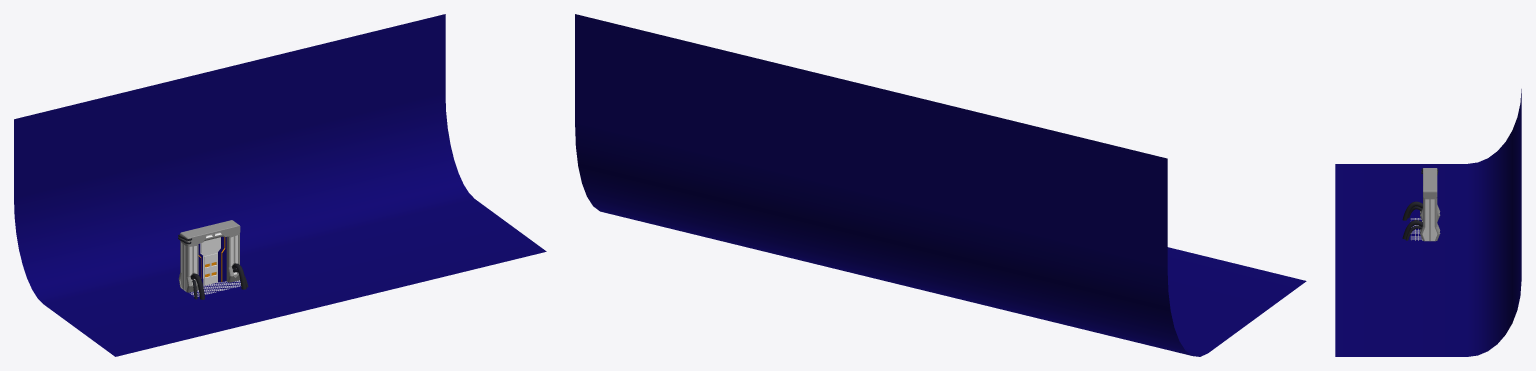
The model's file is ASSETS PUERTA Y ESCENARIO 1.fbx.
The picture shows the model from 3 angles, left to right: view 1: azimuth 30°, elevation 25°; view 2: azimuth 150°, elevation 25°; view 3: azimuth 270°, elevation 25°; orthographic projection. The views are drawn at different scales.
Visible parts, largest first — view 1: Plane.004, Cube, Plane, Plane.002; view 2: Plane.004; view 3: Plane.004, Cube.
Boxes of the visible parts, x1=… form: Plane.004: x1=14, y1=14, x2=546, y2=356; Cube: x1=178, y1=220, x2=240, y2=292; Plane: x1=198, y1=236, x2=226, y2=285; Plane.002: x1=203, y1=252, x2=217, y2=285; Plane.004: x1=575, y1=14, x2=1306, y2=356; Plane.004: x1=1335, y1=89, x2=1521, y2=356; Cube: x1=1420, y1=168, x2=1440, y2=241.
Bounding box in the file's own units: 2869 × 1076 × 1168.
